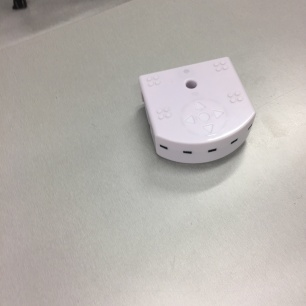thymio: (134, 52, 260, 168)
